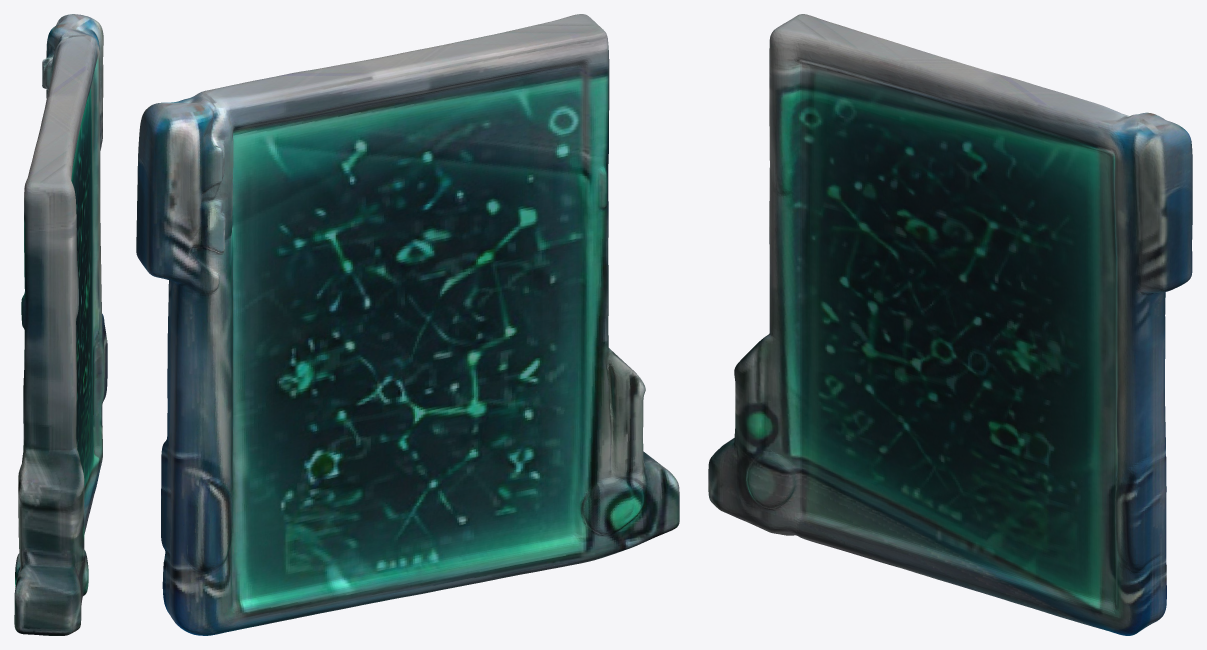
The model's file is terraforming_records.glb.
3 views of the same model, side by side, from view 1: azimuth 30°, elevation 25°; view 2: azimuth 150°, elevation 25°; view 3: azimuth 270°, elevation 25° (orthographic). The views are drawn at different scales.
Bounding box in the file's own units: 1.26 × 2 × 1.7.
Materials: 1 (1 with a texture image).
